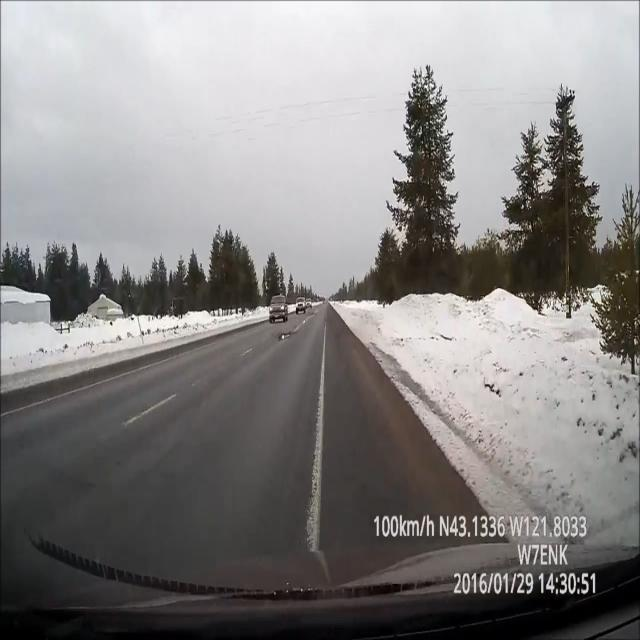Buraco: (278, 330, 293, 341)
